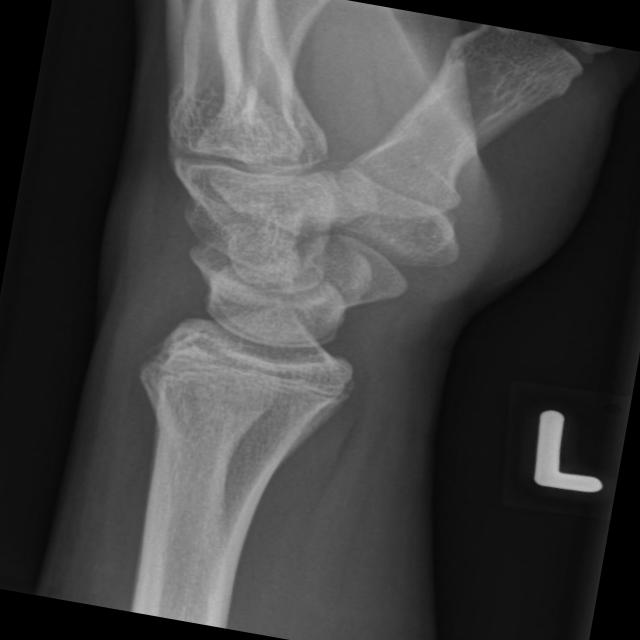fracture: (126, 338, 372, 432)
